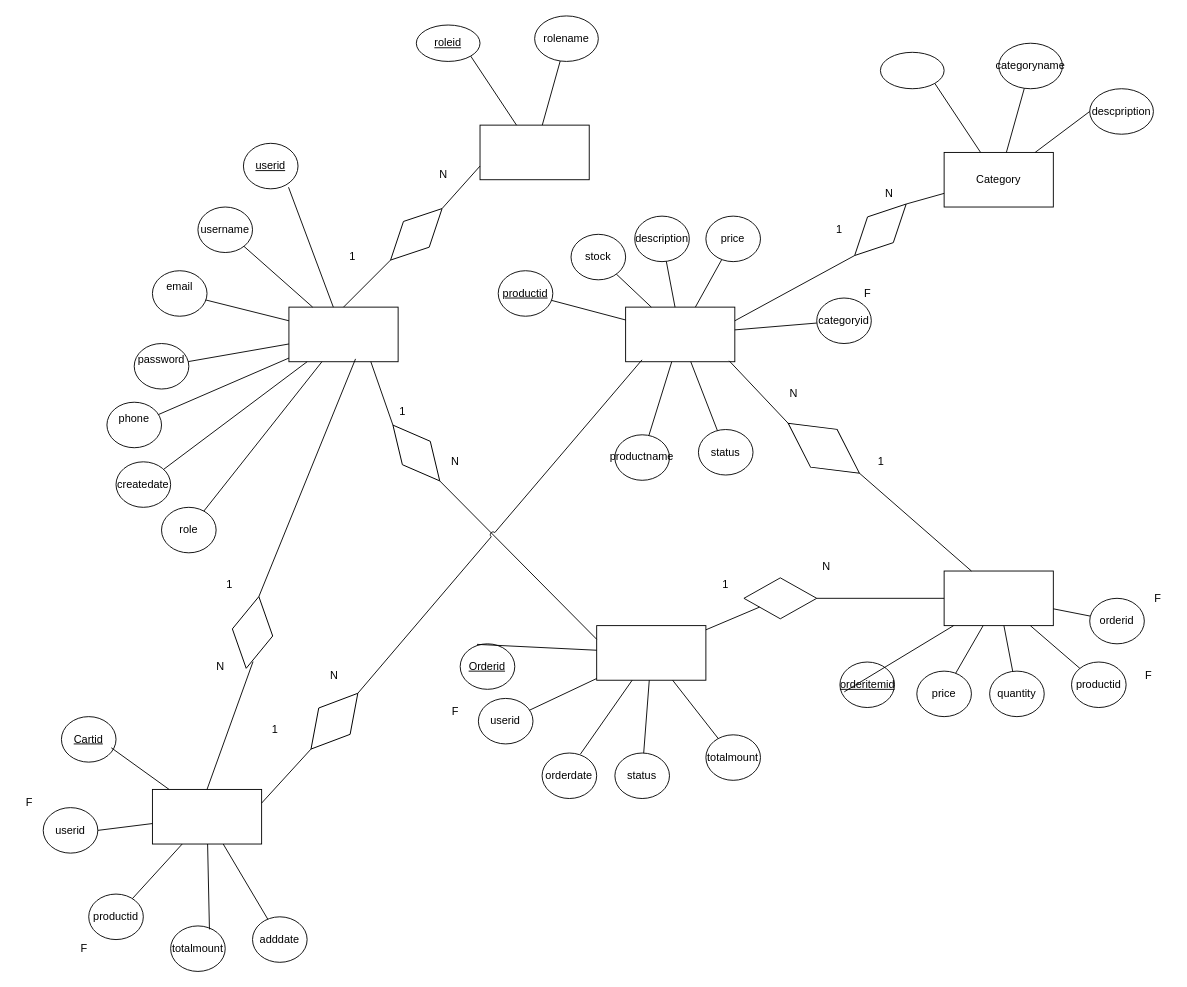
This 1187x987 diagram has some shape labels left out. The centre of each missing label's shape, as x and y in pixels:
Cart: the point at 207,816
category id: the point at 912,70
OrderDetail: the point at 998,598
Orders: the point at 651,652
Product: the point at 680,334
R ole: the point at 534,152
User: the point at 343,334
